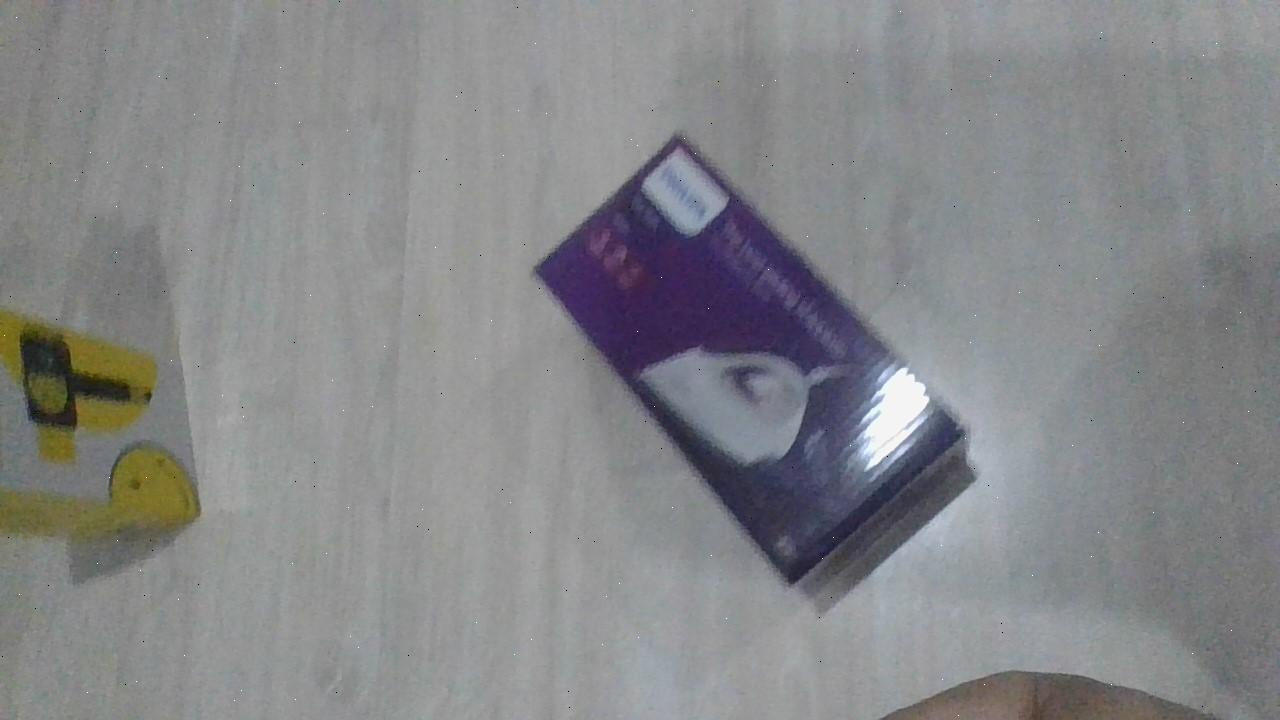IRON: (528, 129, 979, 610)
